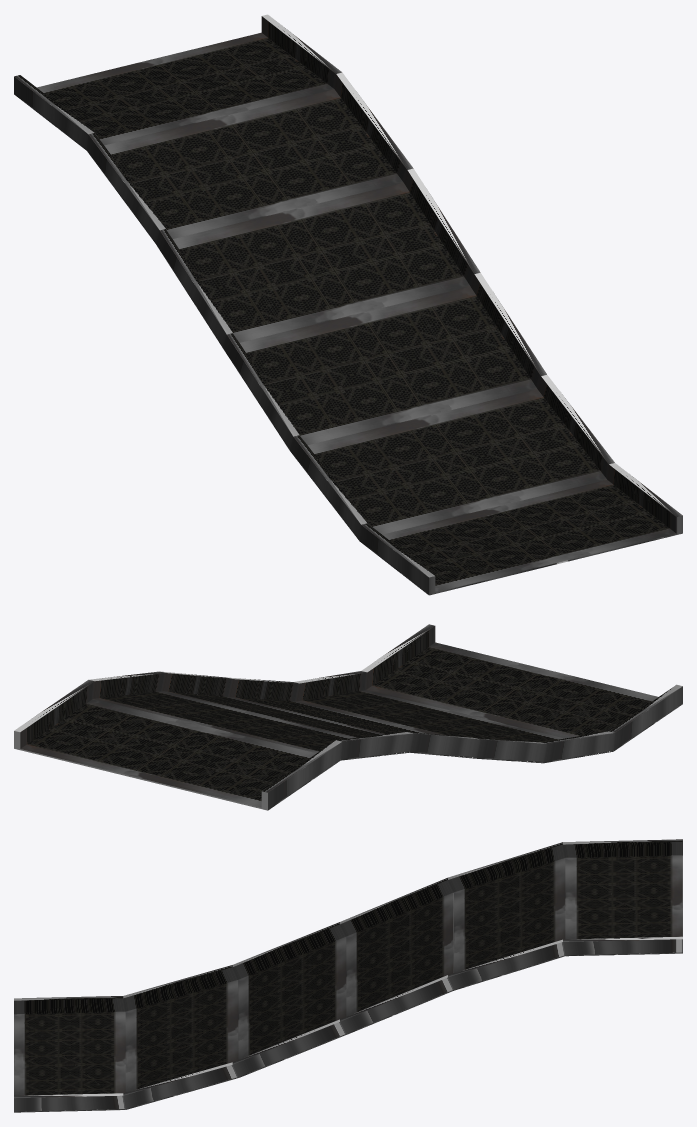
The model's file is TrackHightChange30.fbx.
The picture shows the model from 3 angles, top to bottom: view 1: azimuth 30°, elevation 25°; view 2: azimuth 150°, elevation 25°; view 3: azimuth 270°, elevation 25°; orthographic projection. The views are drawn at different scales.
Visible parts, largest first — view 1: Track; view 2: Track; view 3: Track.
Part boxes in pixels (x1,y1,x2,y2): Track: (14, 14, 682, 595); Track: (14, 624, 682, 810); Track: (14, 839, 682, 1112).
Bounding box in the file's own units: 4000 × 3240 × 11325.
Materials: 1 (1 with a texture image).
